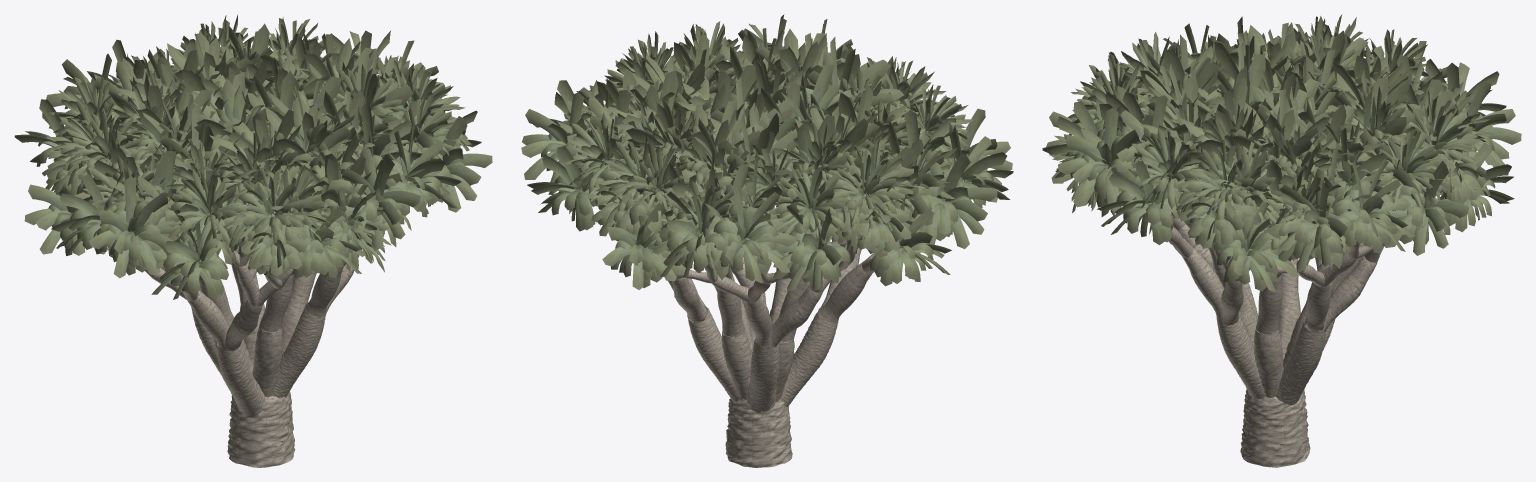
Rendered from MESH_AF08_DracaenaDraco_A_LOD0.fbx.
The picture shows the model from 3 angles, left to right: view 1: azimuth 30°, elevation 25°; view 2: azimuth 150°, elevation 25°; view 3: azimuth 270°, elevation 25°; orthographic projection. The views are drawn at different scales.
Parts seen in each view (by area): view 1: MI_LOD0_001, MI_LOD0; view 2: MI_LOD0_001, MI_LOD0; view 3: MI_LOD0_001, MI_LOD0.
Part boxes in pixels (<box>): MI_LOD0_001: <box>14,14,492,299</box>; MI_LOD0: <box>145,182,362,467</box>; MI_LOD0_001: <box>521,14,1013,291</box>; MI_LOD0: <box>590,199,914,467</box>; MI_LOD0_001: <box>1042,15,1521,291</box>; MI_LOD0: <box>1168,179,1443,467</box>.
Bounding box in the file's own units: 1137 × 1000 × 1096.
